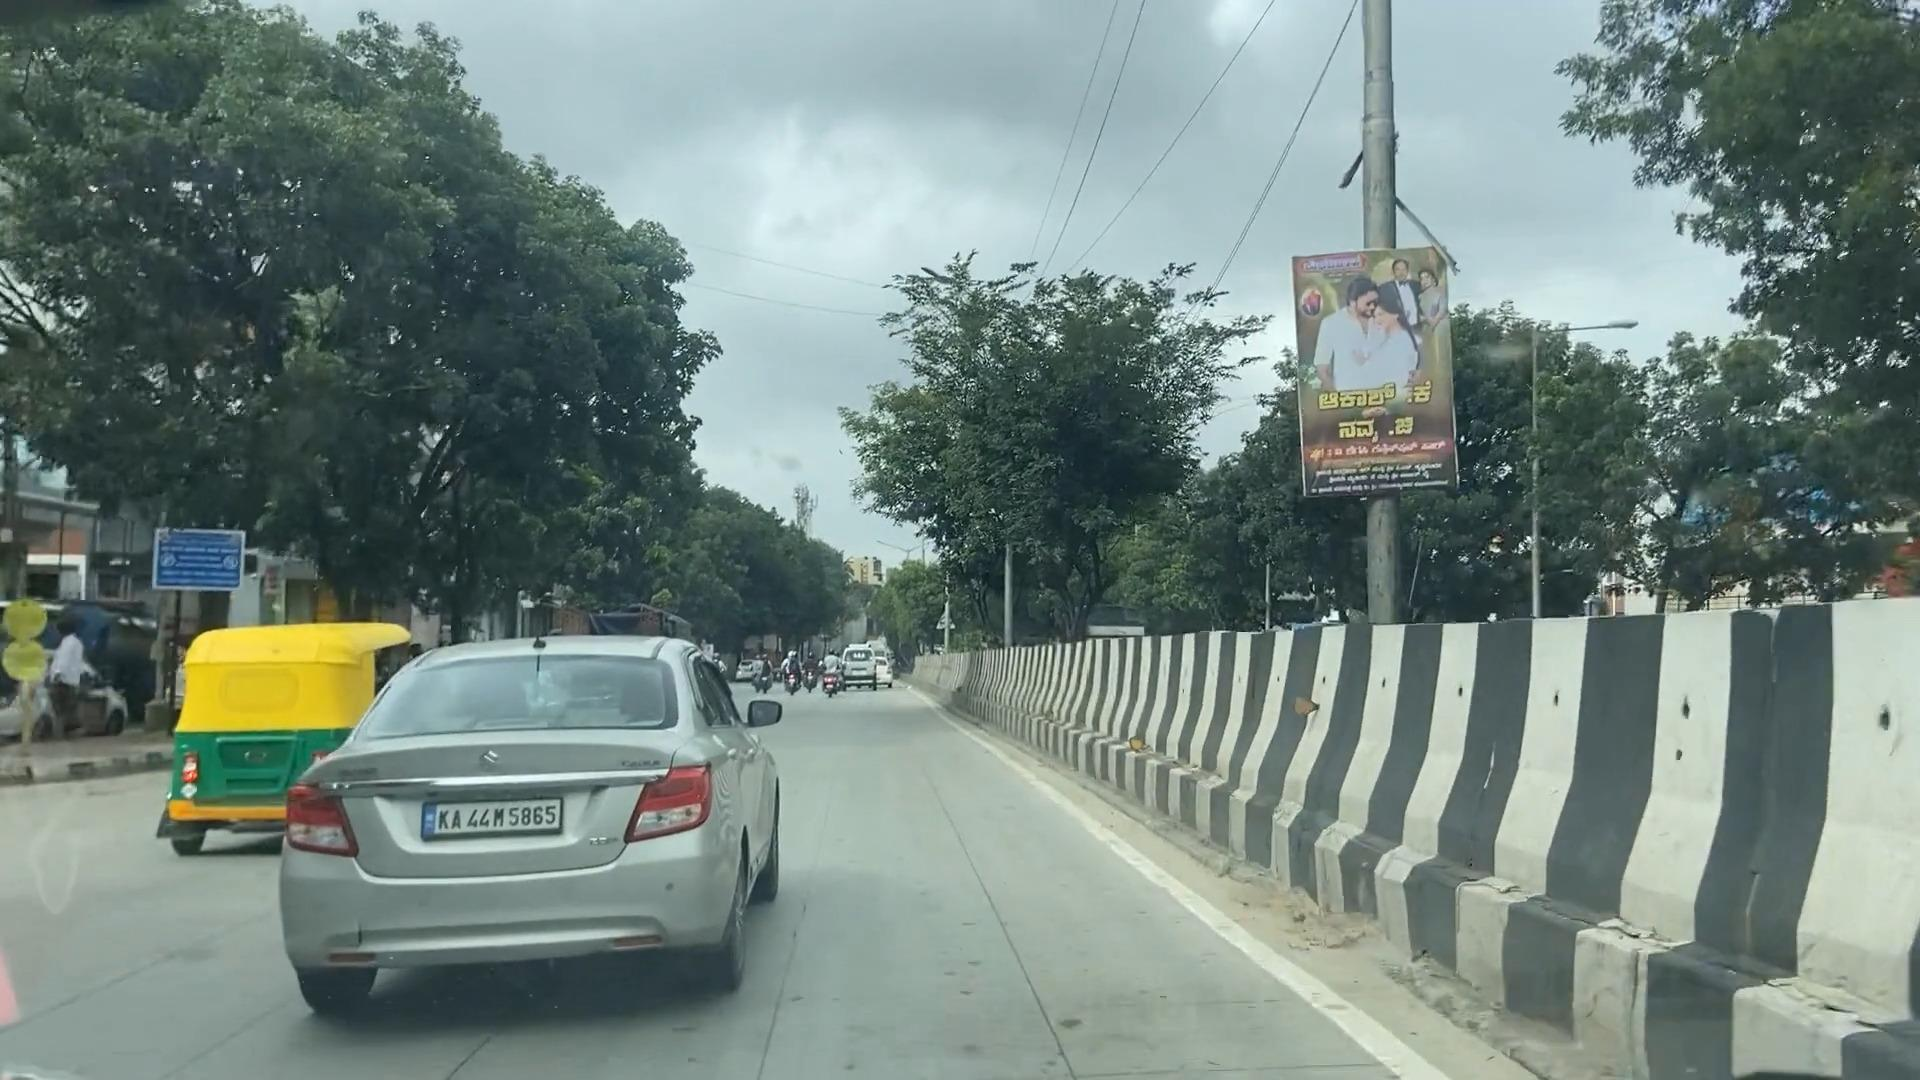LMV: (309, 611, 791, 1010), (164, 628, 368, 828)
